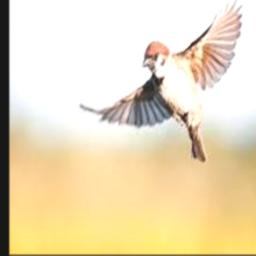Sparrow: (79, 0, 244, 161)
